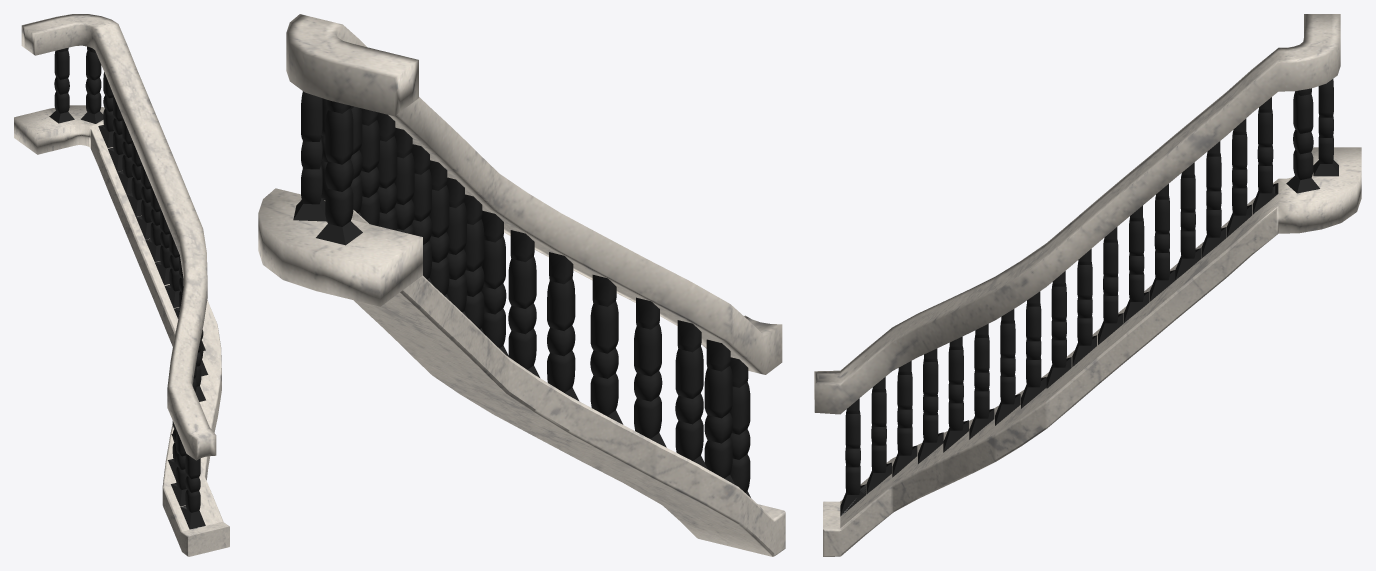
File: banister_stairs_left_with_texture.fbx
The picture shows the model from 3 angles, left to right: view 1: azimuth 30°, elevation 25°; view 2: azimuth 150°, elevation 25°; view 3: azimuth 270°, elevation 25°; orthographic projection. The views are drawn at different scales.
Visible parts, largest first — view 1: polySurface1, polySurface3; view 2: polySurface1, polySurface3; view 3: polySurface1, polySurface3.
Part boxes in pixels (x1,y1,x2,y2): polySurface1: (14, 14, 229, 556); polySurface3: (49, 46, 208, 529); polySurface1: (258, 14, 785, 556); polySurface3: (293, 91, 750, 497); polySurface1: (814, 14, 1361, 556); polySurface3: (840, 79, 1338, 516).
Size of the model in its own units: 2.78 by 9.24 by 8.63.
2 materials, 2 textured.
